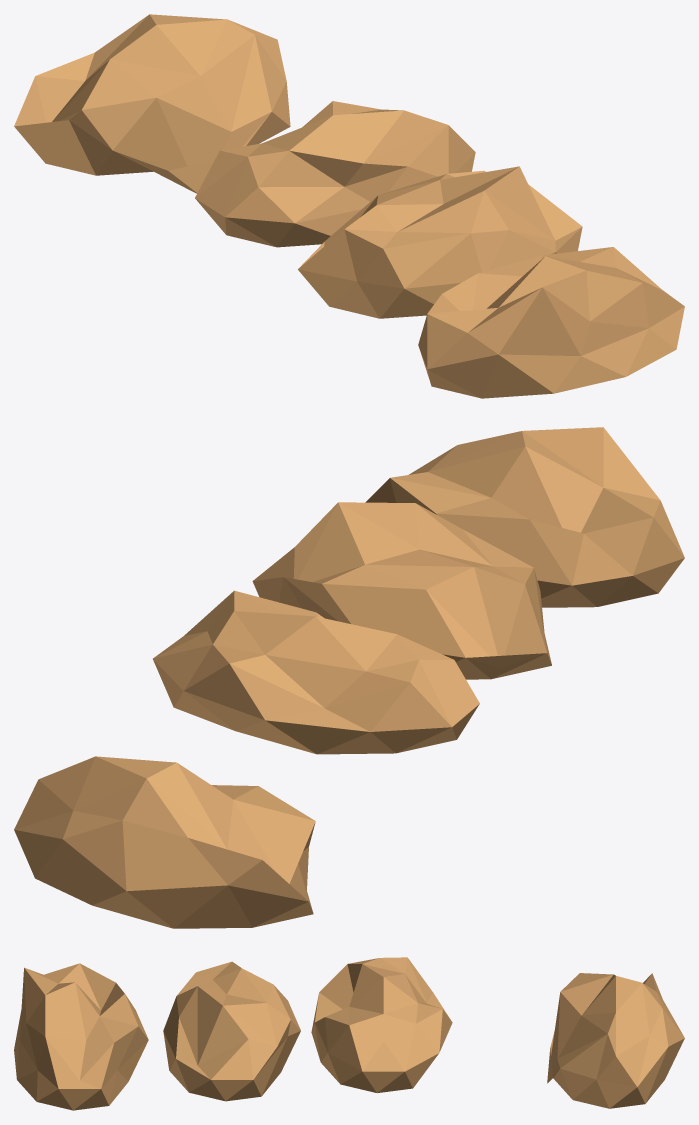
The model's file is rocks1.fbx.
3 renders of one model, top to bottom at view 1: azimuth 30°, elevation 25°; view 2: azimuth 150°, elevation 25°; view 3: azimuth 270°, elevation 25°, orthographic. The views are drawn at different scales.
Parts seen in each view (by area): view 1: Icosphere; view 2: Icosphere; view 3: Icosphere.
Part boxes in pixels (x1,y1,x2,y2): Icosphere: (14, 14, 684, 398); Icosphere: (14, 427, 684, 928); Icosphere: (14, 957, 684, 1110).
Size of the model in its own units: 366 by 180 by 909.
